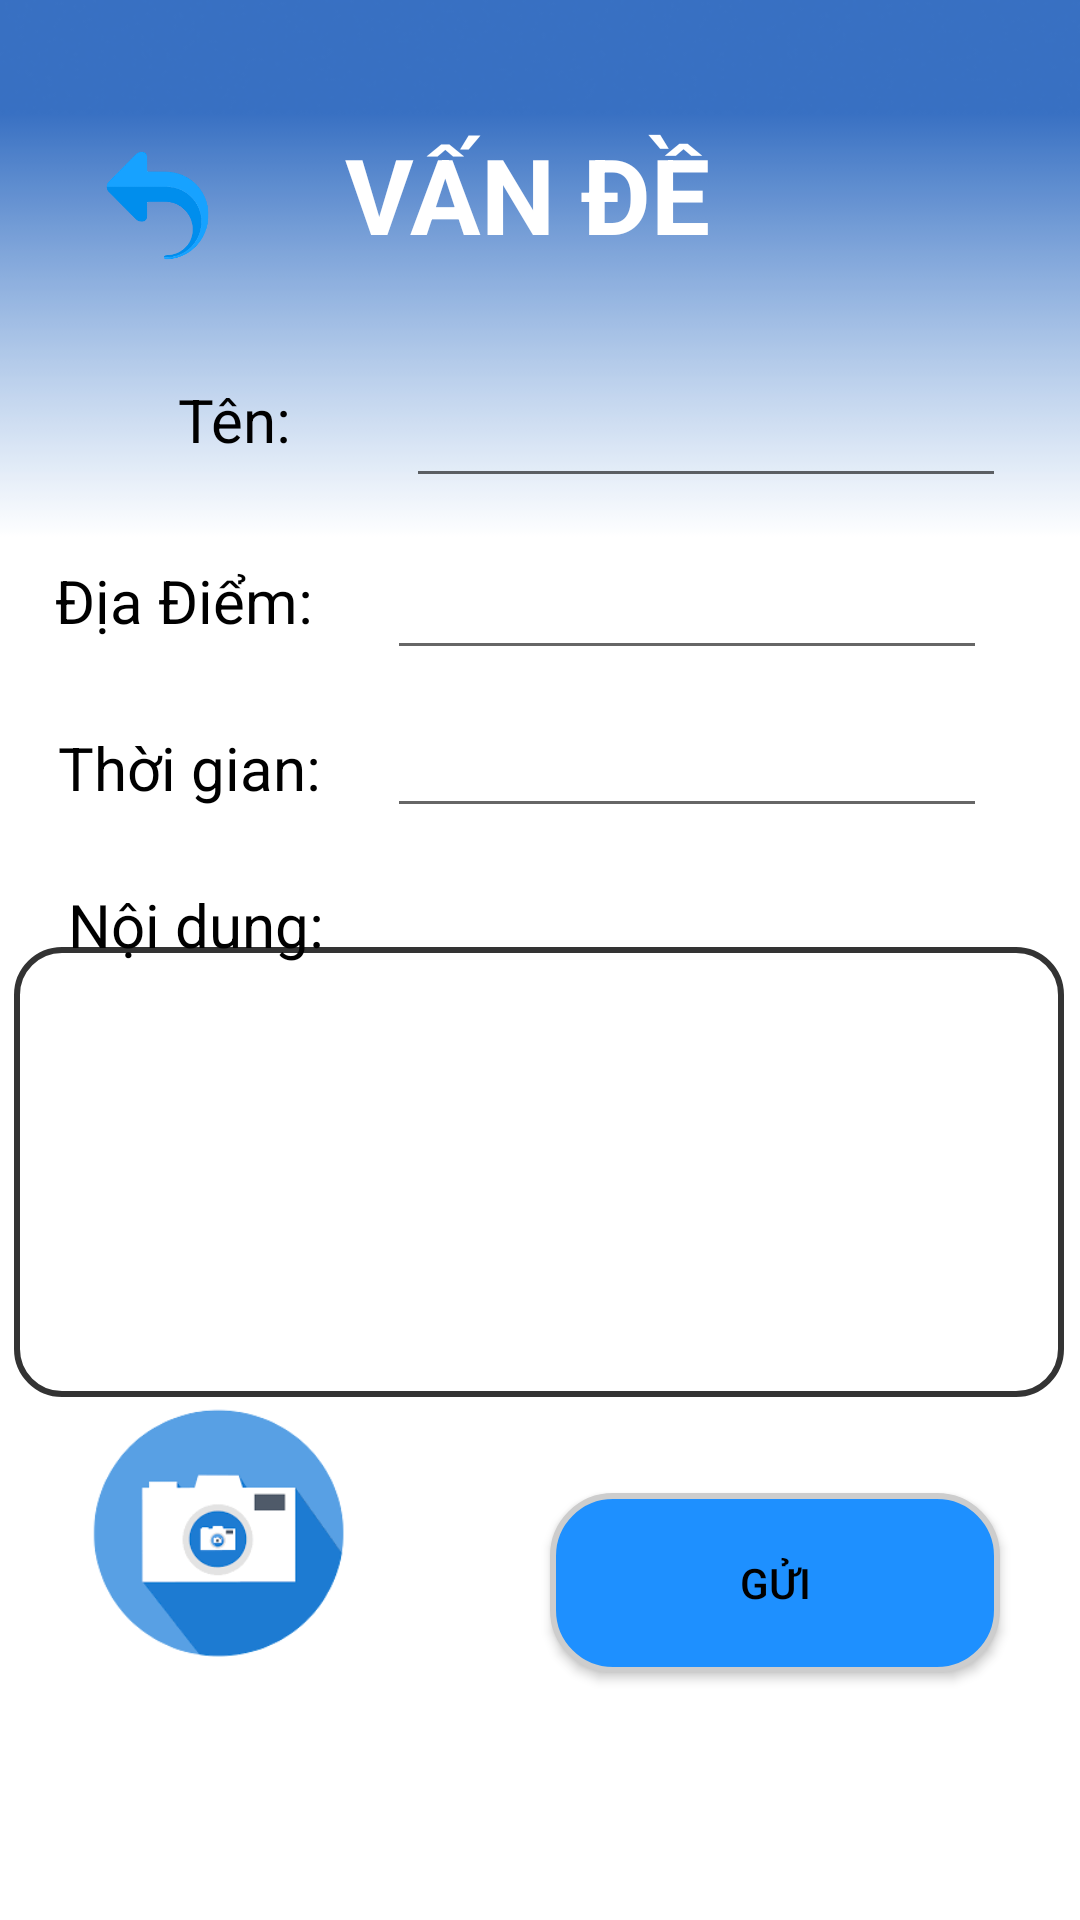

Screen size 1080px×1920px. Icon name, then its center in pixels as (x=x, y=y):
chup: (x=218, y=1533)
out: (x=157, y=205)
